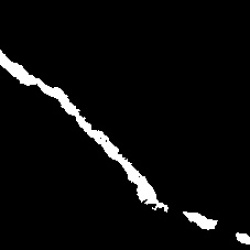crack: (1, 51, 170, 210), (180, 211, 217, 232), (236, 234, 248, 245)
